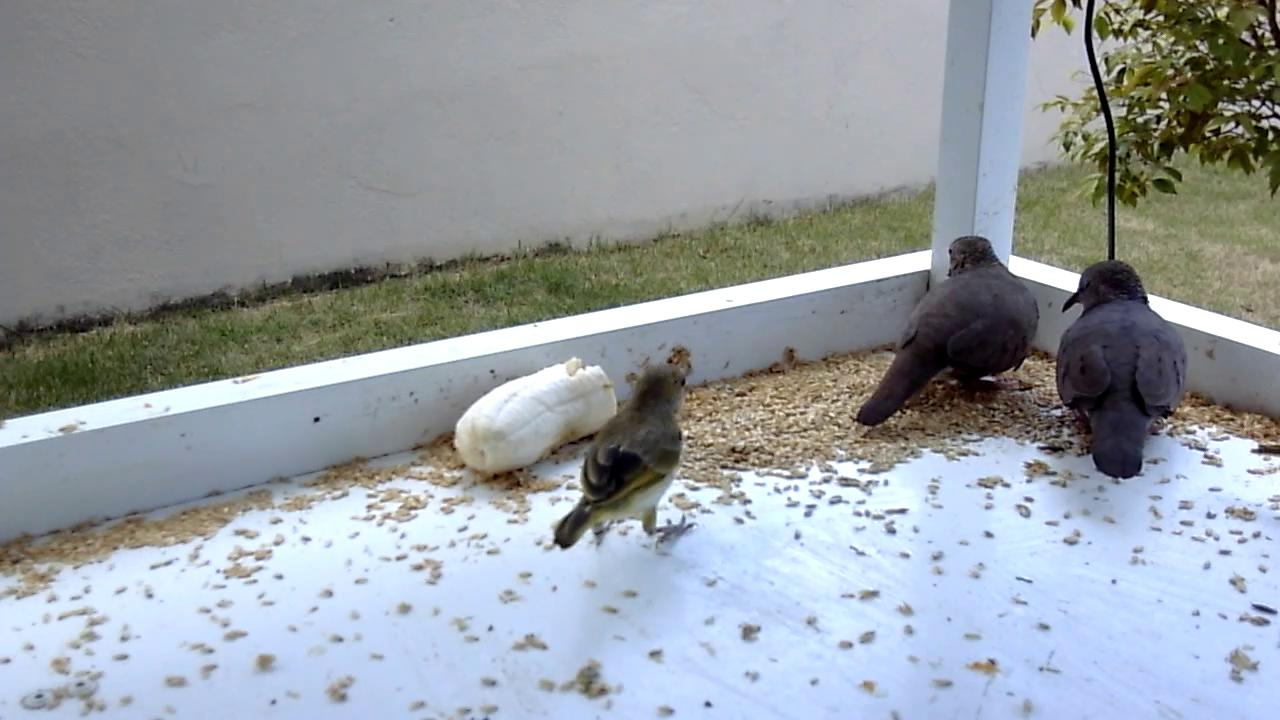canario_do_amazonas: (550, 362, 704, 559)
rolinha: (856, 233, 1044, 434), (1056, 258, 1191, 483)
